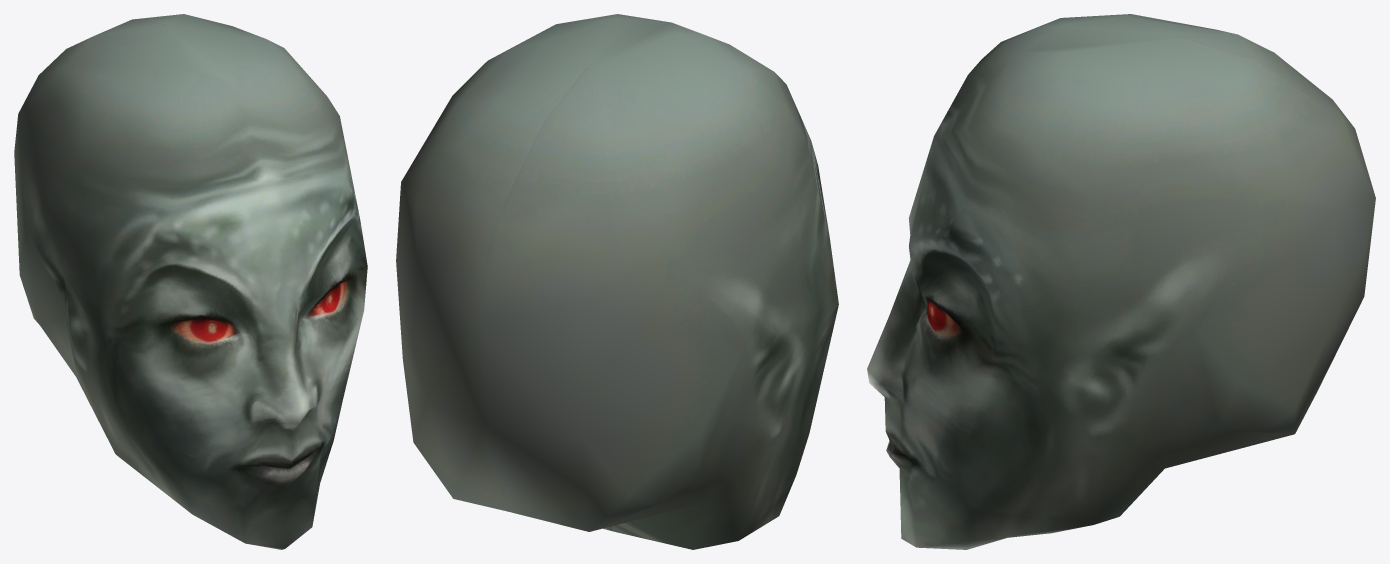
The model's file is b_n_dark elf_f_head_07.glb.
3 renders of one model, left to right at view 1: azimuth 30°, elevation 25°; view 2: azimuth 150°, elevation 25°; view 3: azimuth 270°, elevation 25°, orthographic. The views are drawn at different scales.
Visible parts, largest first — view 1: Tri B_N_Dark Elf_F_Head_07; view 2: Tri B_N_Dark Elf_F_Head_07; view 3: Tri B_N_Dark Elf_F_Head_07.
Boxes of the visible parts, x1,y1,x2,y2 form: Tri B_N_Dark Elf_F_Head_07: (14, 14, 367, 549); Tri B_N_Dark Elf_F_Head_07: (396, 14, 838, 549); Tri B_N_Dark Elf_F_Head_07: (867, 14, 1375, 549).
Size of the model in its own units: 0.0969 by 0.1523 by 0.1389.
1 material, 1 textured.
